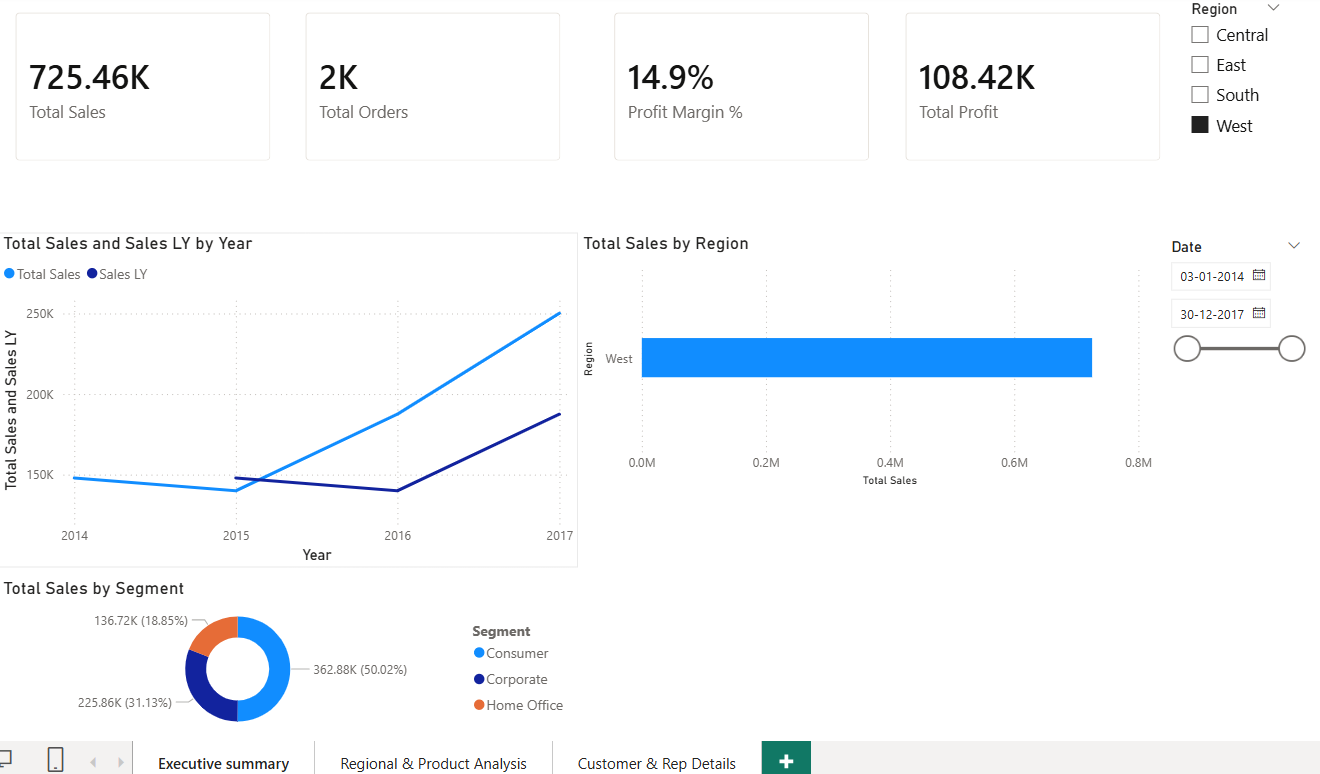

The page's visual inventory and layout, read from the dashboard file:
{"tool":"powerbi","page":{"name":"Executive summary","canvas":[1280,720],"ordinal":0},"visuals":[{"type":"cardVisual","fields":{"Data":["Orders.Total Sales"]},"box":[0,0,280,177.3],"z":0},{"type":"cardVisual","fields":{"Data":["Orders.Total Orders"]},"box":[280,0,280,177.3],"z":1000},{"type":"cardVisual","fields":{"Data":["Orders.Total Profit"]},"box":[858.4,0,280,177.3],"z":2000},{"type":"cardVisual","fields":{"Data":["Orders.Profit Margin %"]},"box":[578.4,0,280,177.3],"z":3000},{"type":"lineChart","fields":{"Category":["DateTable.Date.Variation.Date Hierarchy.Year","DateTable.Date.Variation.Date Hierarchy.Quarter","DateTable.Date.Variation.Date Hierarchy.Month","DateTable.Date.Variation.Date Hierarchy.Day"],"Y":["Orders.Total Sales","DateTable.Sales LY"]},"box":[0,228.7,560.1,324.1],"z":4000},{"type":"barChart","fields":{"Category":["Orders.Region"],"Y":["Orders.Total Sales"]},"box":[560.1,228.7,560.1,250.7],"z":5000},{"type":"slicer","fields":{"Values":["DateTable.Date"]},"box":[1120.1,228.7,150.4,250.7],"z":6000},{"type":"slicer","fields":{"Values":["Orders.Region"]},"box":[1138.5,0,111.3,177.3],"z":7000},{"type":"donutChart","fields":{"Category":["Orders.Segment"],"Y":["Orders.Total Sales"]},"box":[0,562.5,560.1,157.7],"z":8000}]}

Visuals, with their boxes on the page's 1280x720 design canvas (x1, y1, x2, y2). These are canvas units, not pixel positions in the 1320x774 screenshot, which may show the page scaled, cropped or inside an application window:
cardVisual - Orders.Total Sales: 0, 0, 280, 177
cardVisual - Orders.Total Orders: 280, 0, 560, 177
cardVisual - Orders.Total Profit: 858, 0, 1138, 177
cardVisual - Orders.Profit Margin %: 578, 0, 858, 177
lineChart - DateTable.Date.Variation.Date Hierarchy.Year x DateTable.Date.Variation.Date Hierarchy.Quarter: 0, 229, 560, 553
barChart - Orders.Region x Orders.Total Sales: 560, 229, 1120, 479
slicer - DateTable.Date: 1120, 229, 1270, 479
slicer - Orders.Region: 1138, 0, 1250, 177
donutChart - Orders.Segment x Orders.Total Sales: 0, 562, 560, 720
